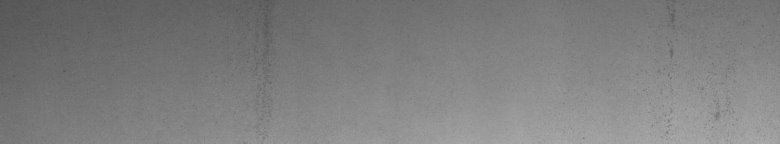ib: (668, 7, 728, 120)
